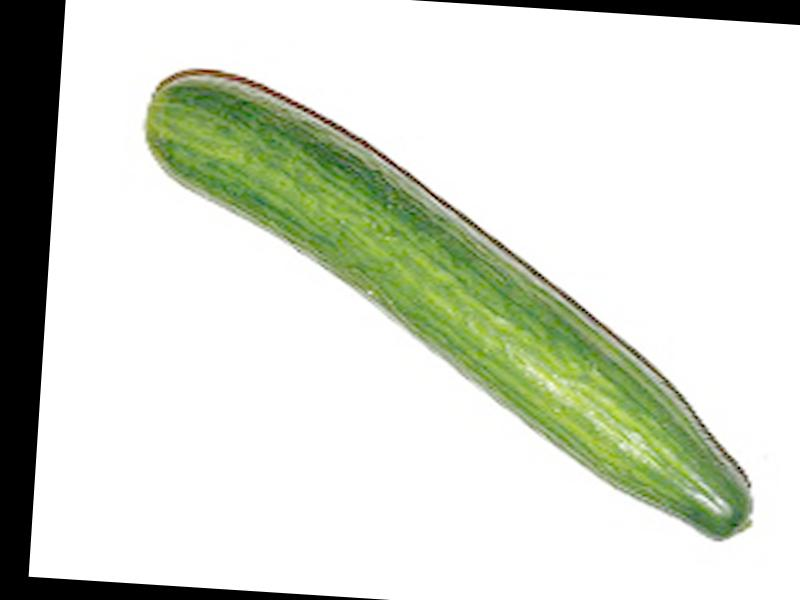Cucumber: (121, 67, 778, 543)
